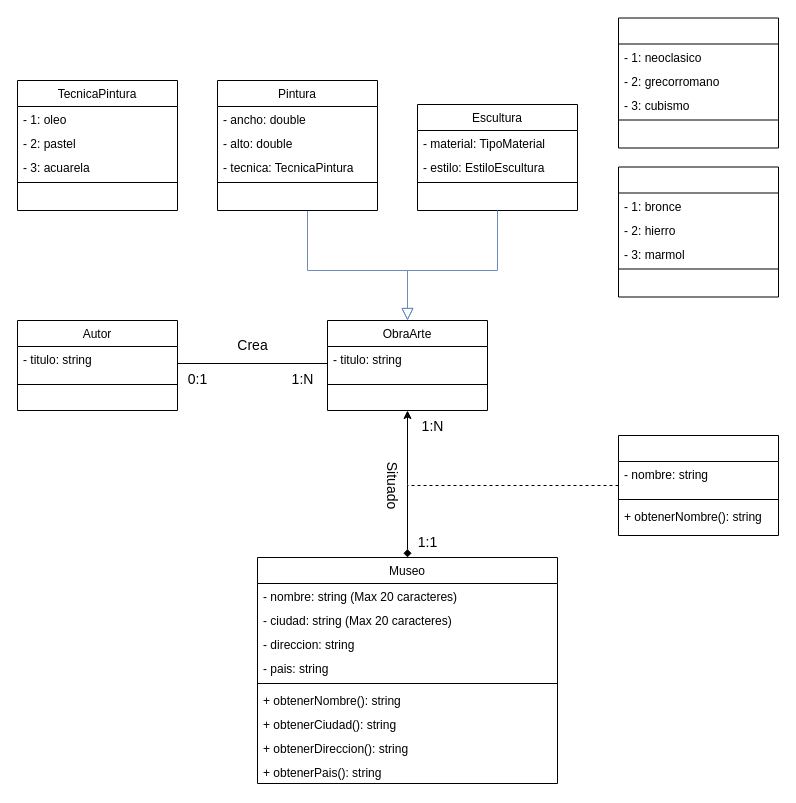
Some shapes in this 796 by 803 pixel diagram are drawn without their labels. Each missing label, with the box of its shape:
EstiloEscultura: (618, 17, 778, 148)
SalaMuseo: (618, 434, 778, 536)
TipoMaterial: (618, 166, 778, 297)
